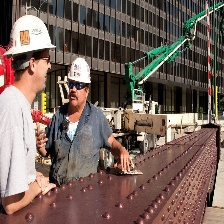helmet: (4, 12, 56, 62), (67, 58, 94, 88)
no-vest: (0, 88, 46, 204), (56, 103, 103, 176)
person: (0, 11, 55, 199), (53, 59, 108, 172)
